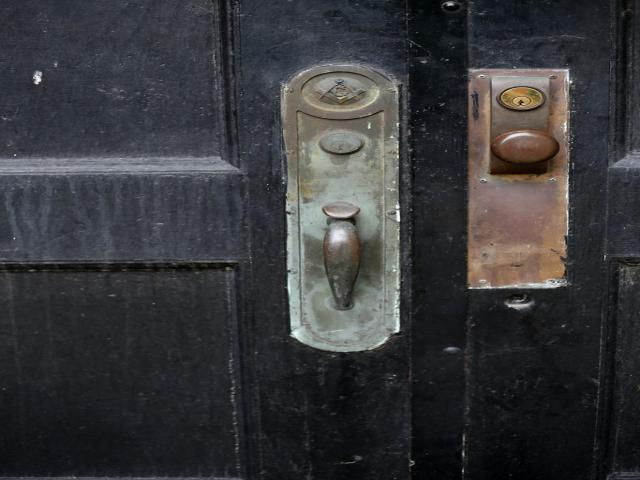Door-handle: (266, 63, 404, 357), (467, 69, 600, 294)
